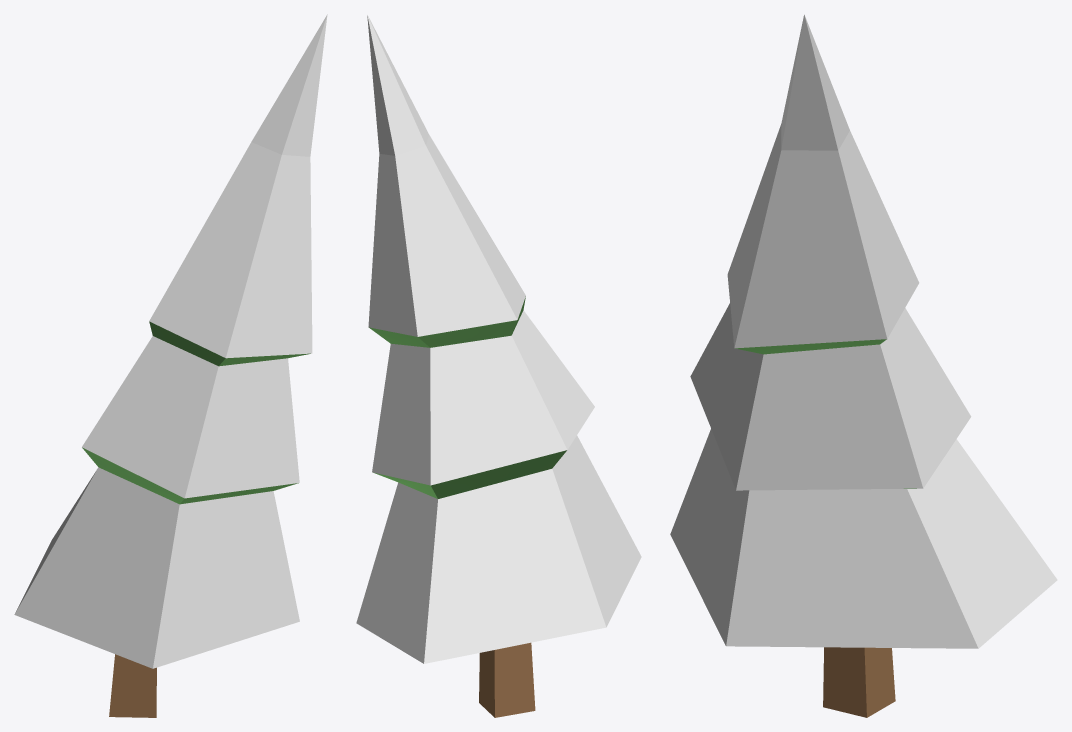
Rendered from Fir_Tree_s_Snow_04_LOD.fbx.
3 views of the same model, side by side, from view 1: azimuth 30°, elevation 25°; view 2: azimuth 150°, elevation 25°; view 3: azimuth 270°, elevation 25° (orthographic). The views are drawn at different scales.
Visible parts, largest first — view 1: Fir_Tree_s_Snow_04_LOD0; view 2: Fir_Tree_s_Snow_04_LOD0; view 3: Fir_Tree_s_Snow_04_LOD0.
Part boxes in pixels (x1,y1,x2,y2): Fir_Tree_s_Snow_04_LOD0: (14,14,327,717); Fir_Tree_s_Snow_04_LOD0: (356,15,641,717); Fir_Tree_s_Snow_04_LOD0: (670,14,1057,717).
Size of what is drawn, in the model's own units: 114 by 258 by 115.
